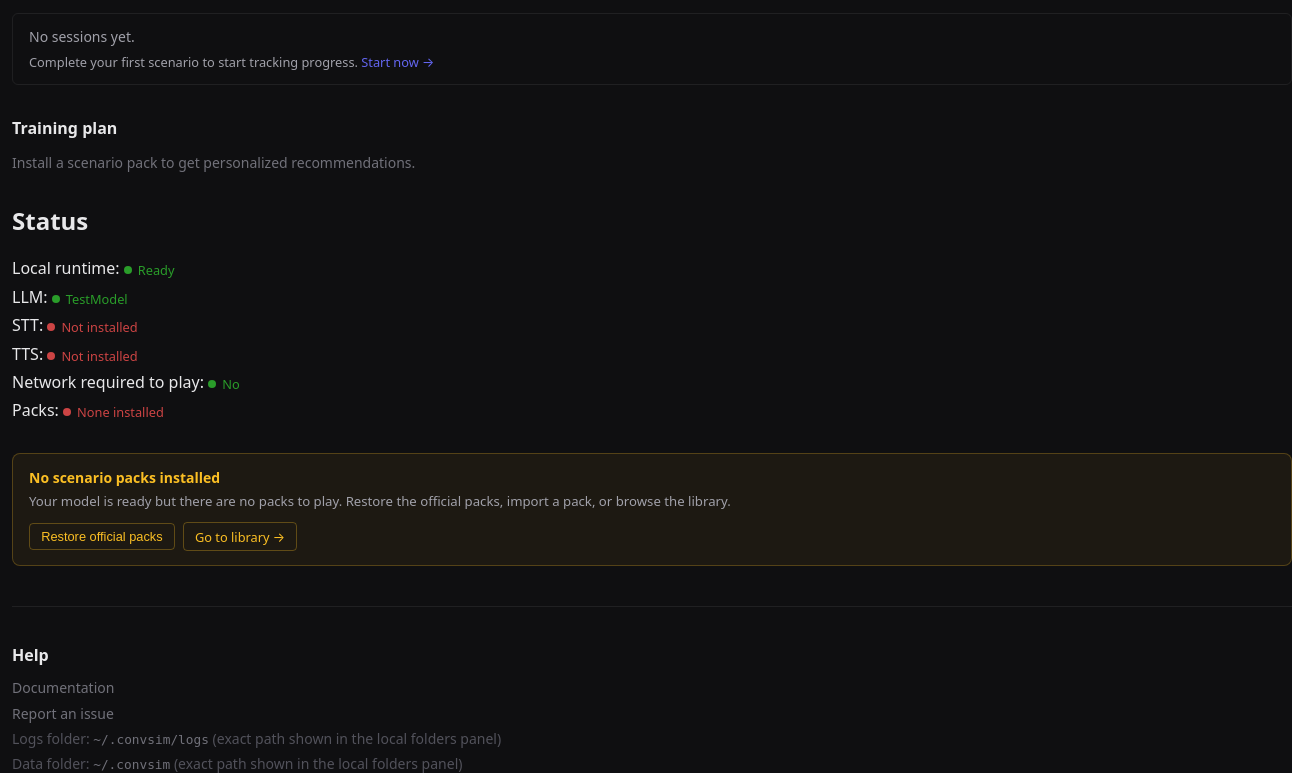
Test: Home — missing-pack section › clears the missing-pack notice after a successful restore
(page scrolled)
Check: the text "TestModel" is shown, box [52,290,128,308]
Check: the message "No scenario packs installed" is shown, box [12,453,1291,566]
Click the button "Restore official packs": (102, 536) [29,523,175,550]
(page scrolled)
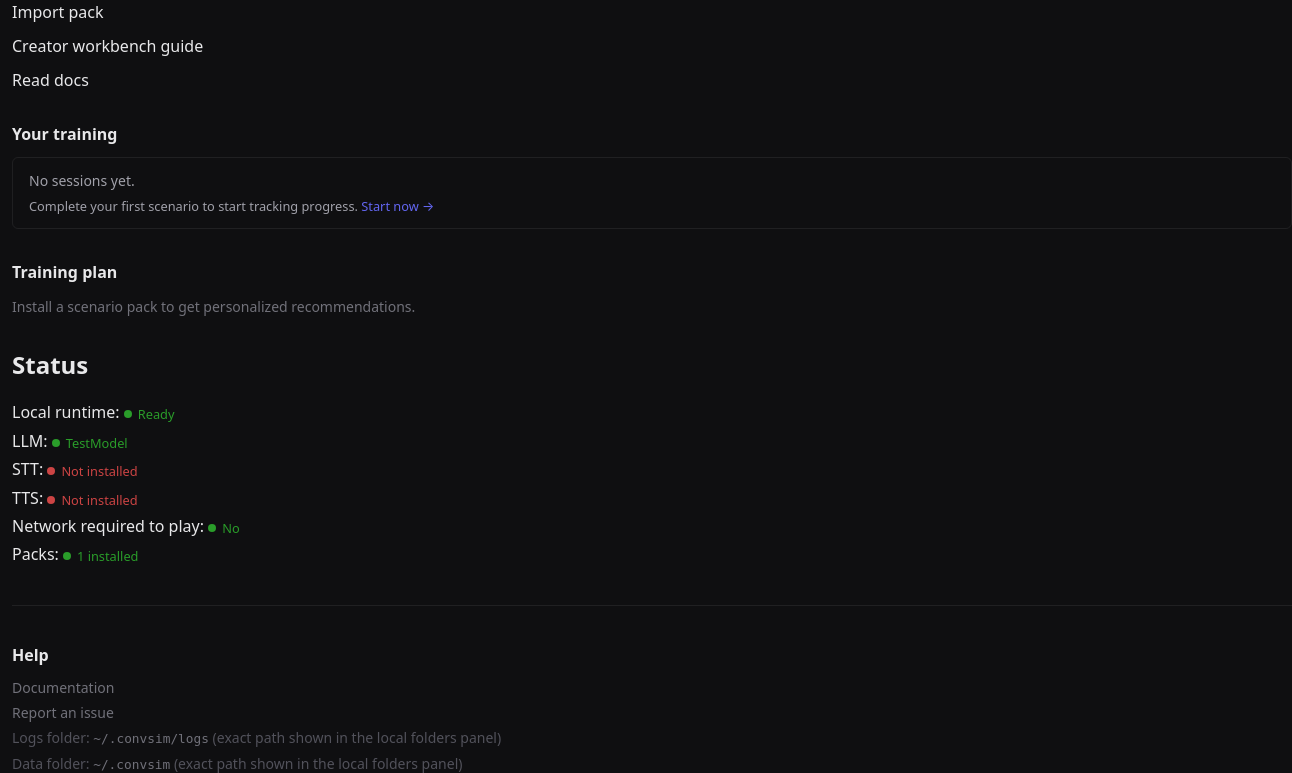
Check: the text "No scenario packs installed" is gone
